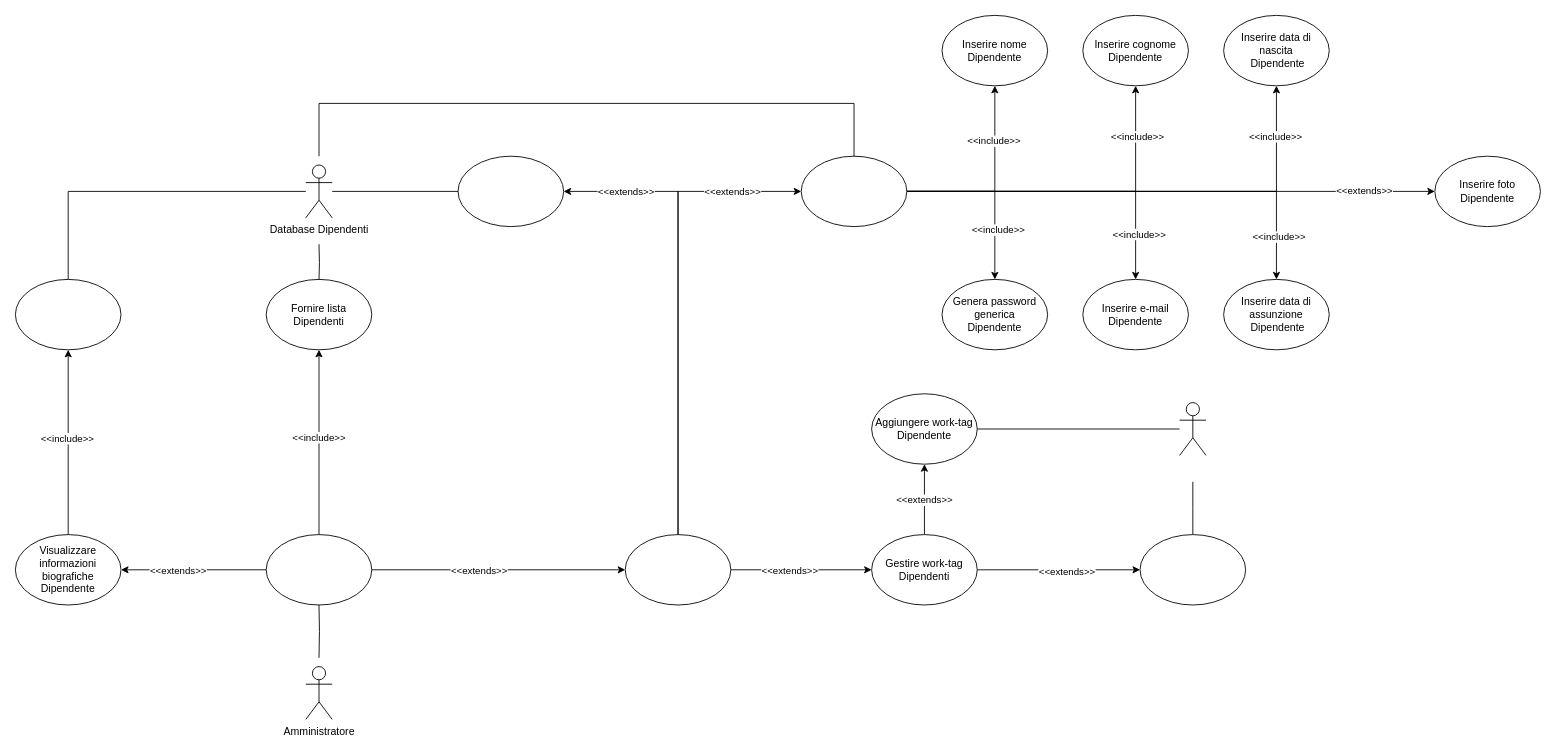
Some shapes in this 1556 by 753 pixel diagram are drawn without their labels. The box of each missing label's shape, as (x1, y1, x2, y2) in pixels:
Aggiungere profilo Dipendente: (800, 155, 907, 227)
Database Task: (1179, 402, 1206, 455)
Fornire informazioni biografiche Dipendente: (15, 279, 121, 350)
Gestire profilo Dipendenti: (624, 534, 731, 605)
Rimuovere profilo Dipendente: (457, 155, 564, 227)
Rimuovere work-tag Dipendente: (1139, 534, 1246, 605)
Visualizzare lista Dipendenti: (265, 534, 372, 605)
